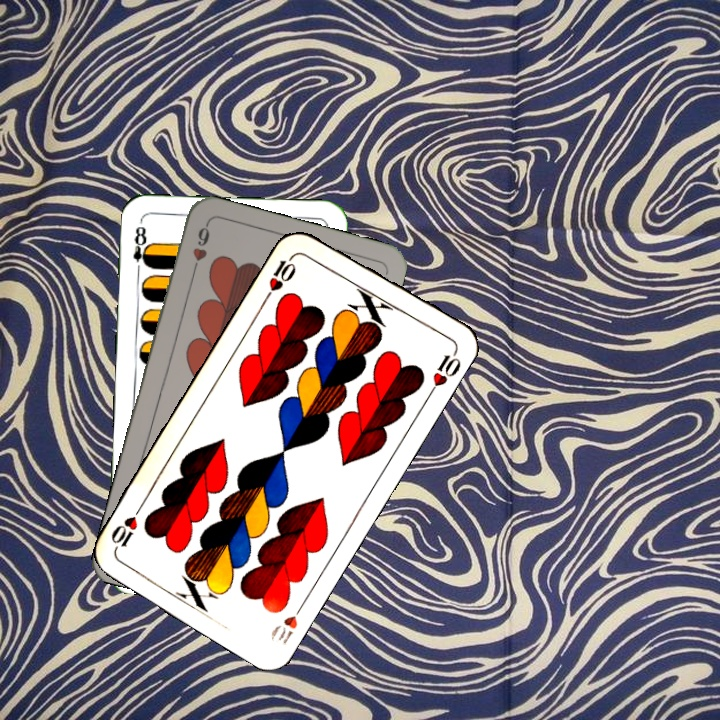E8: (129, 222, 153, 278)
H10: (266, 596, 309, 646), (260, 249, 299, 302)
H9: (188, 220, 212, 278)
